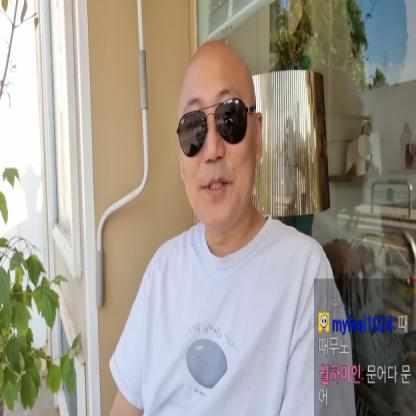streamer: (107, 40, 356, 416)
